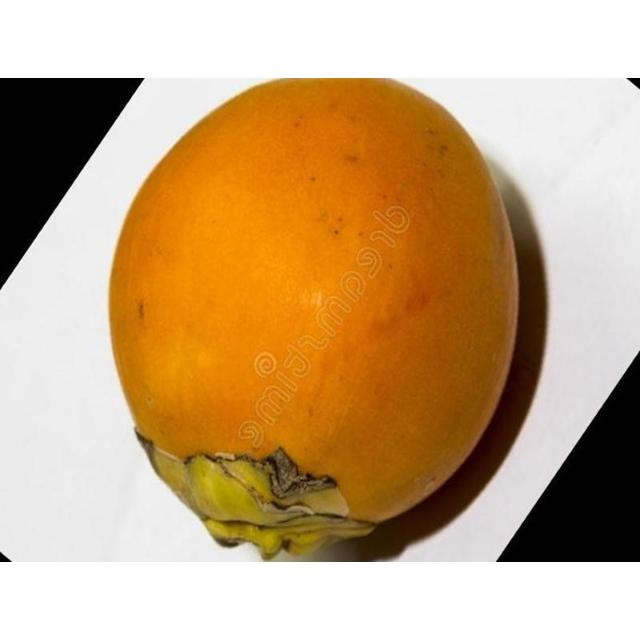good: (106, 78, 521, 561)
